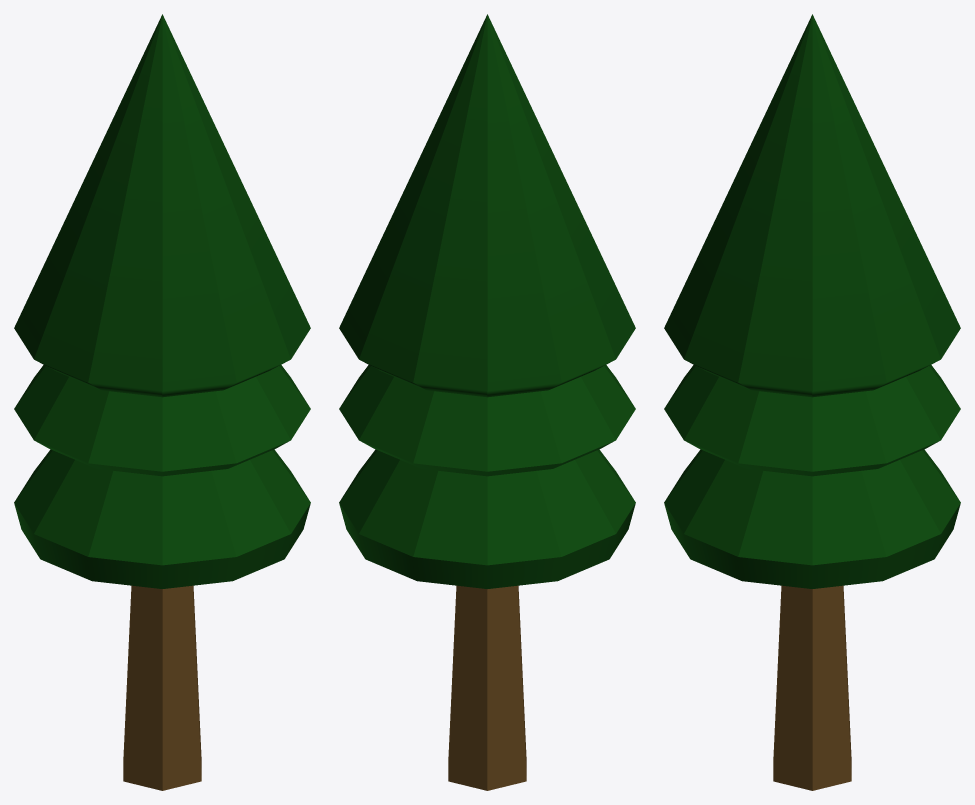
The model's file is asset_Tree_02.fbx.
The picture shows the model from 3 angles, left to right: view 1: azimuth 30°, elevation 25°; view 2: azimuth 150°, elevation 25°; view 3: azimuth 270°, elevation 25°; orthographic projection.
Visible parts, largest first — view 1: Tree03; view 2: Tree03; view 3: Tree03.
Boxes of the visible parts, x1=… form: Tree03: x1=14, y1=14, x2=310, y2=790; Tree03: x1=339, y1=14, x2=635, y2=790; Tree03: x1=664, y1=14, x2=960, y2=790.
Bounding box in the file's own units: 116 × 326 × 116.
